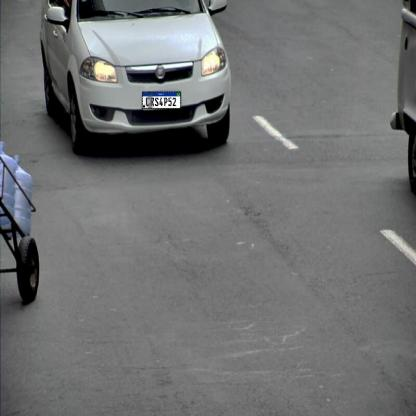PlacaM: (142, 91, 181, 109)
